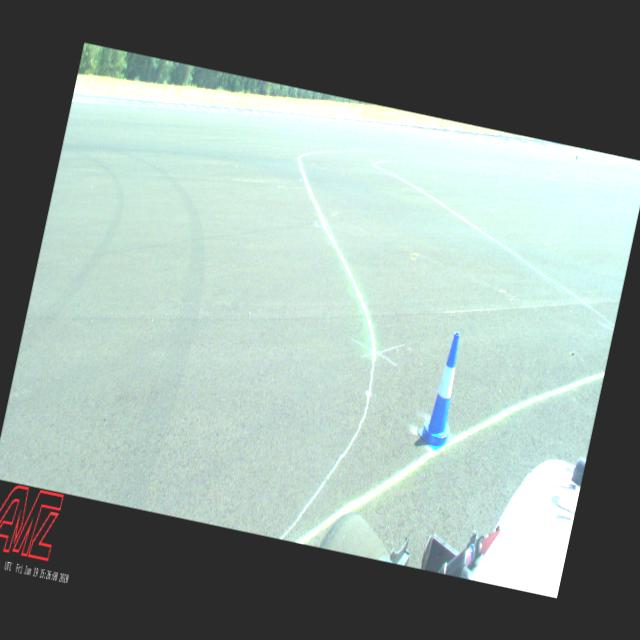blue_cone: (414, 329, 472, 452)
